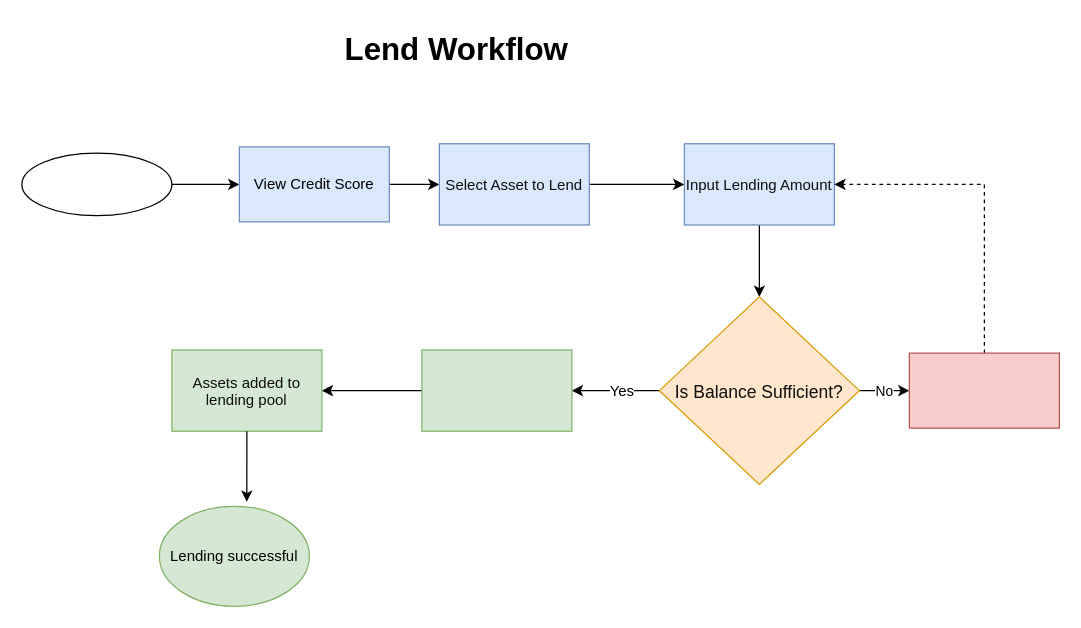
Image size: 1081x628. Some labels were removed from this diagram. Here are the shapes that lost their labels. From the top down, the box of each, then its label:
(21, 152, 172, 216): User login
(421, 349, 572, 431): Confirm lending opreation
(908, 352, 1059, 428): Alert Insufficient Balance
